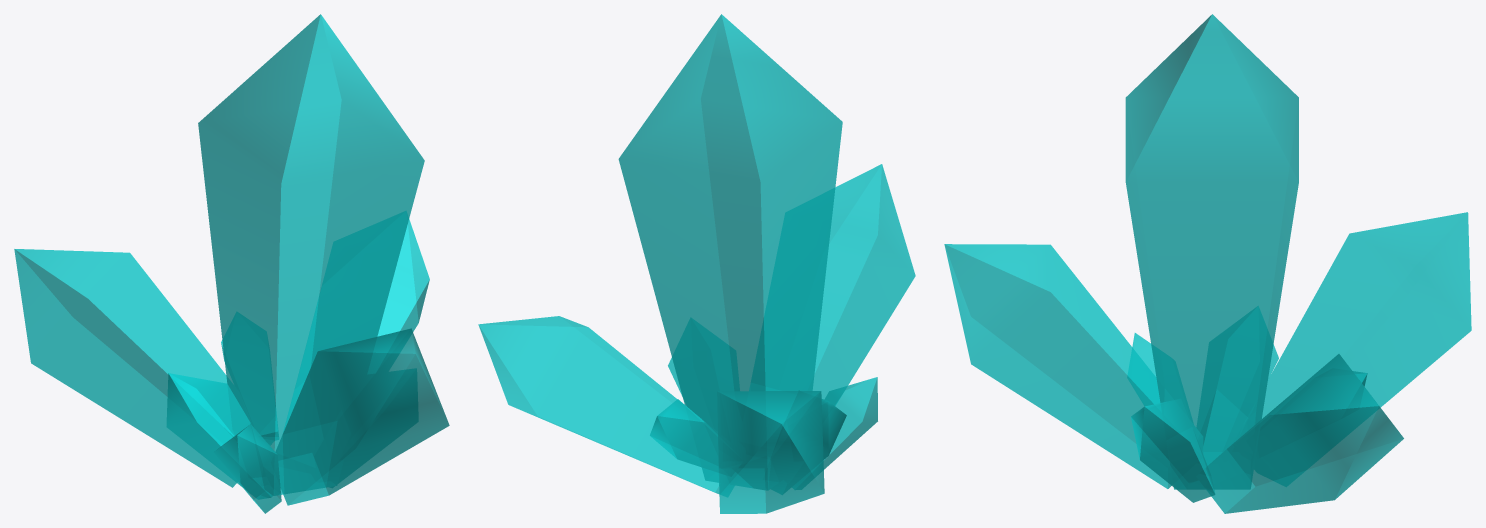
File: CrystalCluster.fbx
The picture shows the model from 3 angles, left to right: view 1: azimuth 30°, elevation 25°; view 2: azimuth 150°, elevation 25°; view 3: azimuth 270°, elevation 25°; orthographic projection. The views are drawn at different scales.
Visible parts, largest first — view 1: pCube2; view 2: pCube2; view 3: pCube2.
Part boxes in pixels (x1,y1,x2,y2): pCube2: (14, 14, 449, 513); pCube2: (478, 14, 915, 513); pCube2: (944, 14, 1471, 513).
Bounding box in the file's own units: 2.22 × 2.8 × 2.68.
